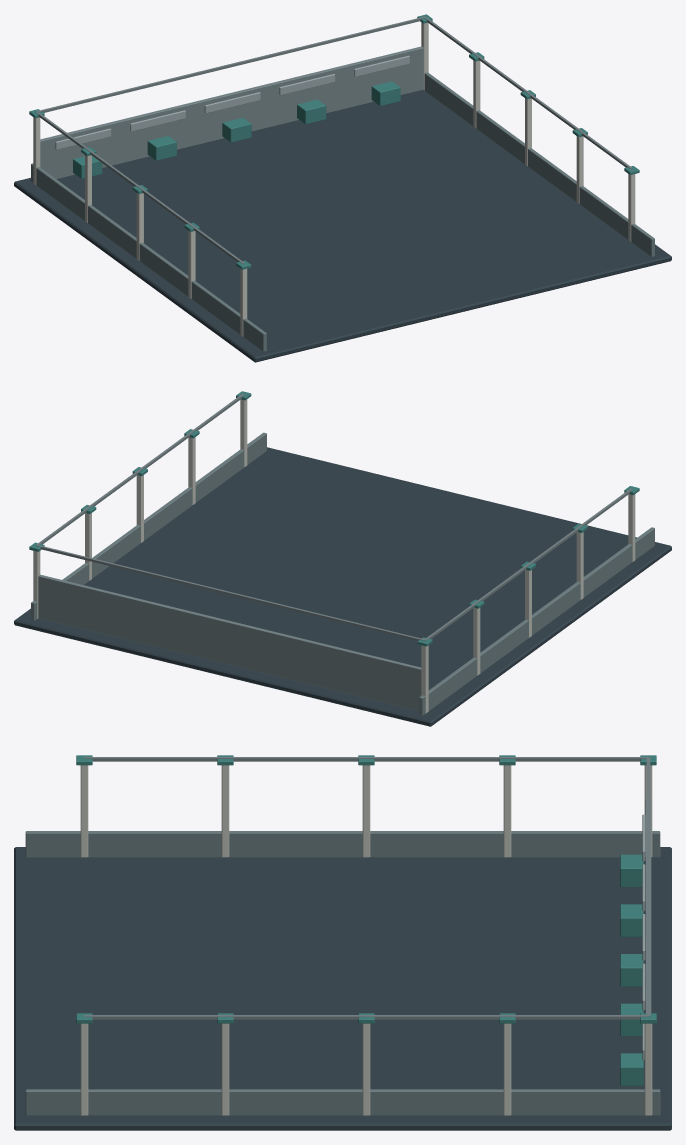
The model's file is phw_hall.glb.
3 views of the same model, one above another, from view 1: azimuth 30°, elevation 25°; view 2: azimuth 150°, elevation 25°; view 3: azimuth 270°, elevation 25° (orthographic). The views are drawn at different scales.
Parts seen in each view (by area): view 1: body; view 2: body; view 3: body.
Boxes of the visible parts, box(x1,y1,x2,y2) form: body: box(14, 14, 671, 362); body: box(14, 391, 671, 726); body: box(14, 755, 671, 1130).
Bounding box in the file's own units: 28 × 4.97 × 28.
